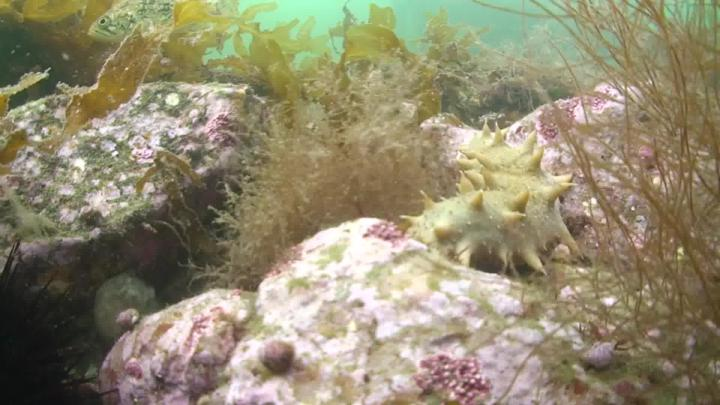holothurian: (399, 126, 583, 289)
